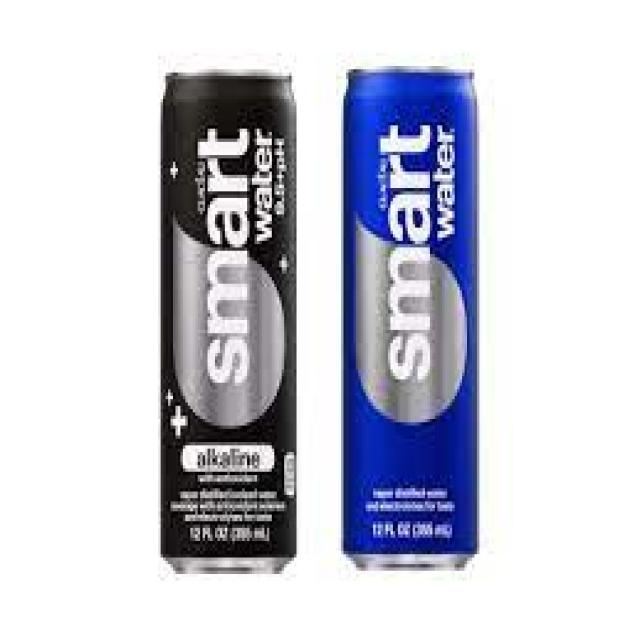Cans: (151, 59, 309, 594), (331, 56, 489, 577)
